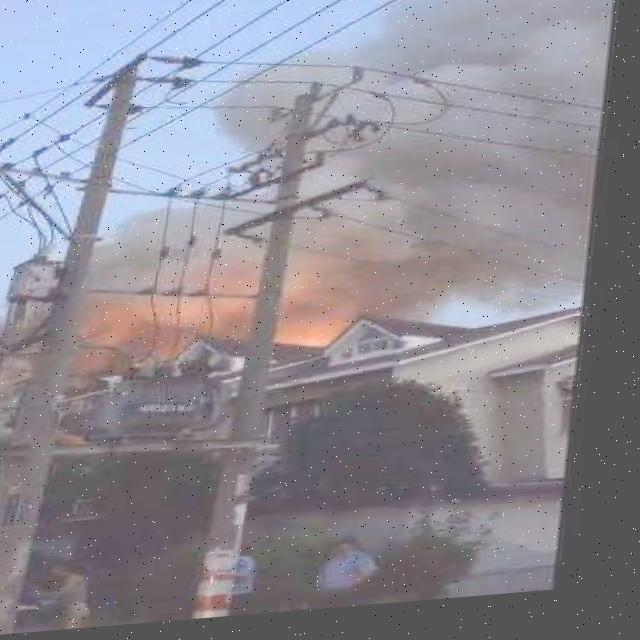Fire: (77, 254, 370, 382)
